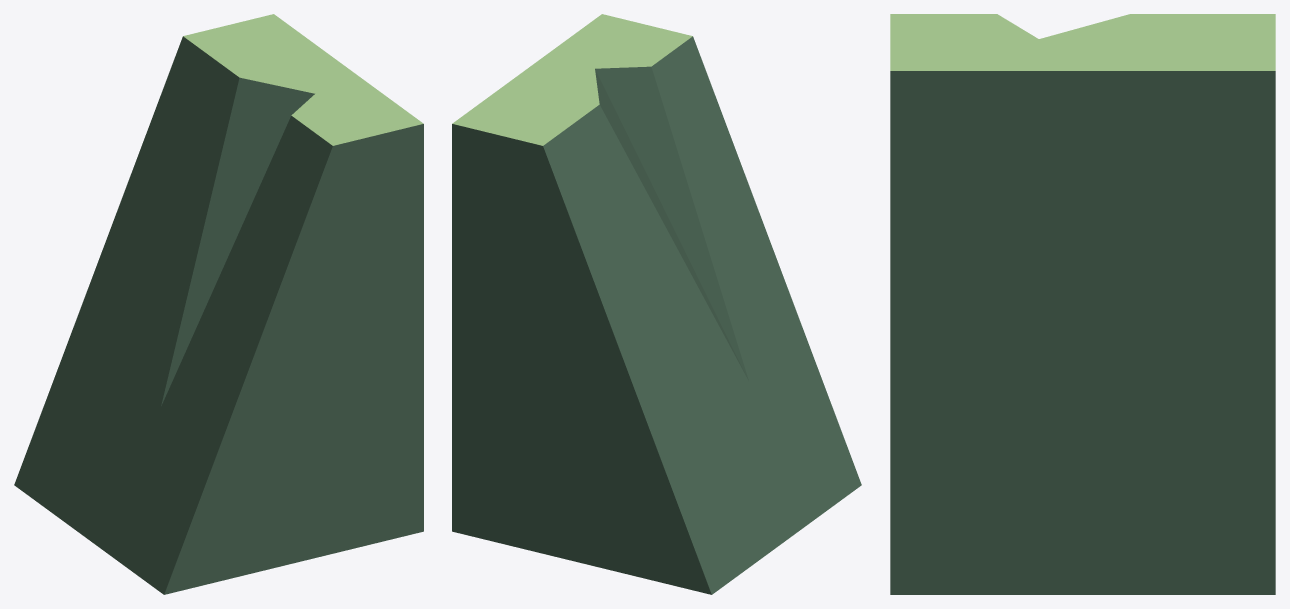
File: GroundEdge04.fbx
3 renders of one model, left to right at view 1: azimuth 30°, elevation 25°; view 2: azimuth 150°, elevation 25°; view 3: azimuth 270°, elevation 25°, orthographic. The views are drawn at different scales.
Visible parts, largest first — view 1: Cube.010; view 2: Cube.010; view 3: Cube.010.
Boxes of the visible parts, bbox=[...] form: Cube.010: bbox=[14, 14, 423, 594]; Cube.010: bbox=[452, 14, 861, 594]; Cube.010: bbox=[890, 14, 1275, 594].
Bounding box in the file's own units: 100 × 150 × 100.
